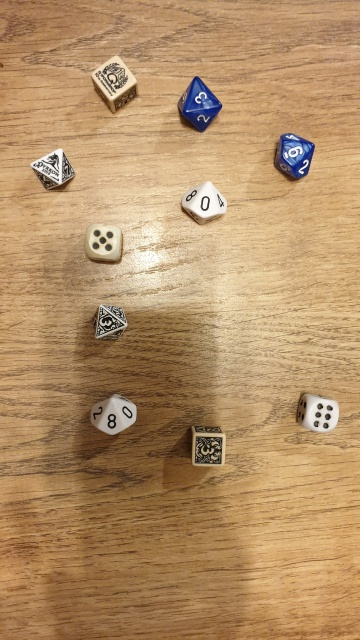d10-10: (179, 177, 232, 227)
d10-3: (175, 74, 227, 135)
d10-6: (270, 123, 320, 187)
d10-8: (85, 386, 141, 437)
d6-5: (78, 219, 135, 263)
d6-6: (295, 391, 343, 434)
d6p-3: (187, 422, 228, 470)
d6p-6: (87, 50, 145, 112)
d8p-1: (28, 145, 80, 194)
d8p-3: (87, 299, 132, 346)
